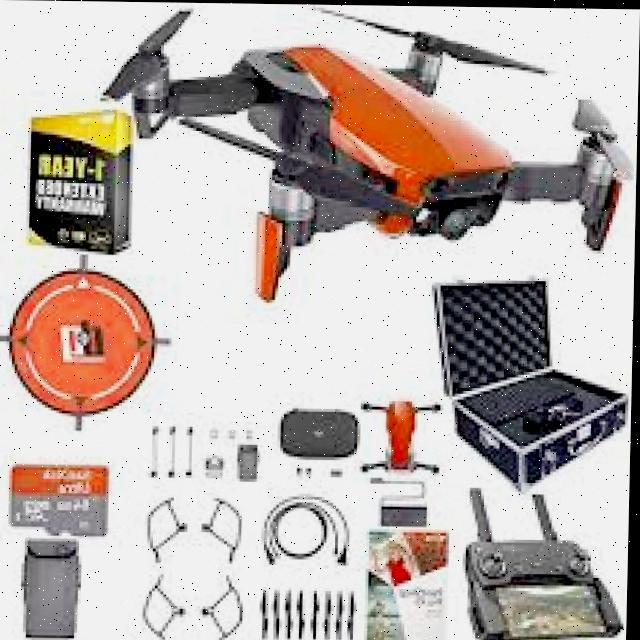drone: (99, 1, 640, 311)
